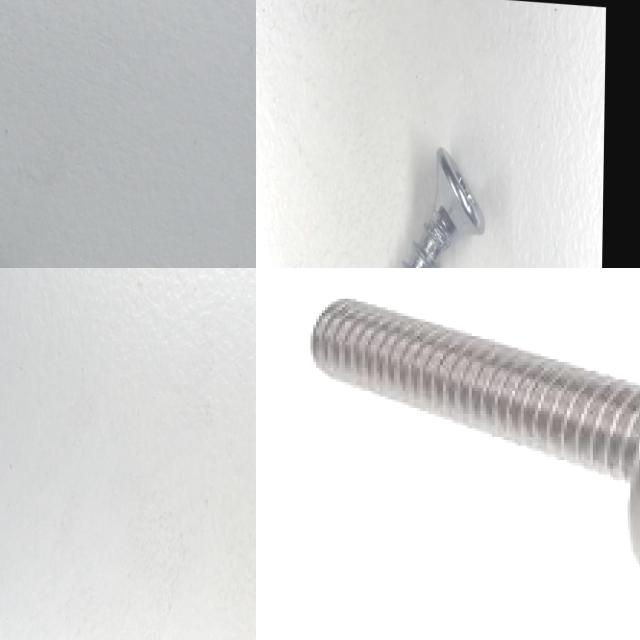Screw: (307, 299, 640, 566), (403, 146, 484, 268)
